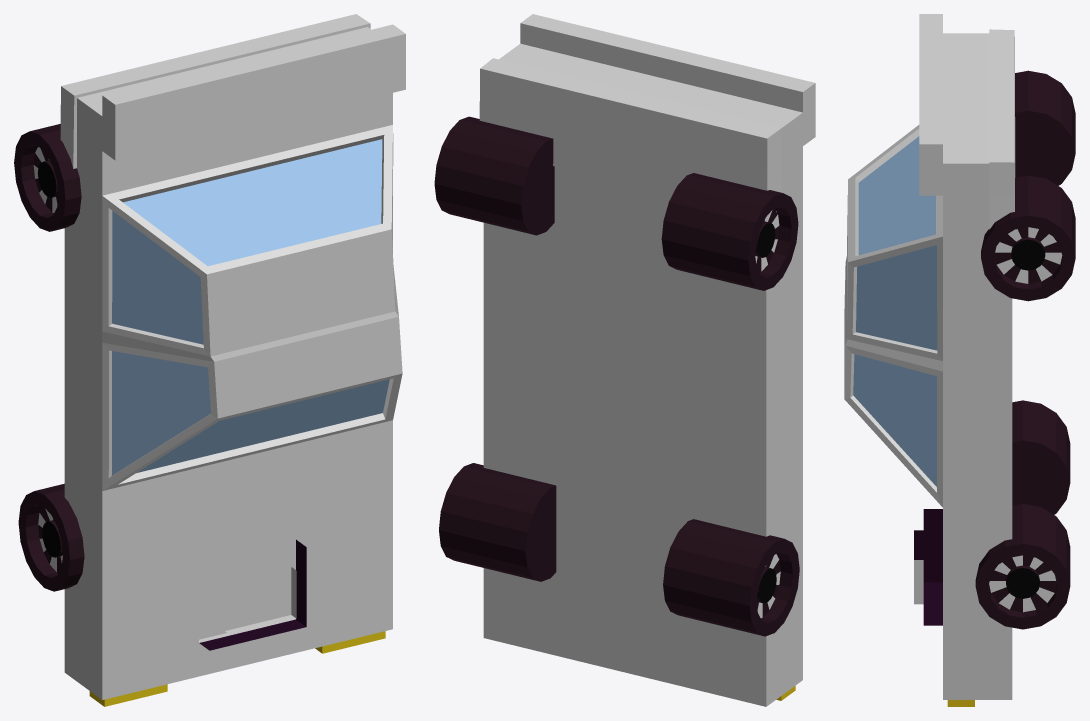
File: car02.fbx
3 renders of one model, left to right at view 1: azimuth 30°, elevation 25°; view 2: azimuth 150°, elevation 25°; view 3: azimuth 270°, elevation 25°, orthographic. The views are drawn at different scales.
Visible parts, largest first — view 1: Cube.003, Cylinder.002, Cylinder.004, Cube.002; view 2: Cube.003, Cylinder.002, Cylinder.004; view 3: Cube.003, Cylinder.002, Cylinder.004.
Part boxes in pixels (box(x1,y1,x2,y2)): Cube.003: box(60, 14, 405, 699); Cylinder.002: box(14, 124, 81, 231); Cylinder.004: box(18, 483, 84, 591); Cube.002: box(89, 631, 385, 706); Cube.003: box(479, 14, 815, 706); Cylinder.002: box(434, 116, 798, 290); Cylinder.004: box(439, 463, 799, 636); Cube.003: box(844, 14, 1015, 699); Cylinder.002: box(981, 70, 1075, 301); Cylinder.004: box(975, 400, 1070, 629).
Bounding box in the file's own units: 362 × 658 × 244.
